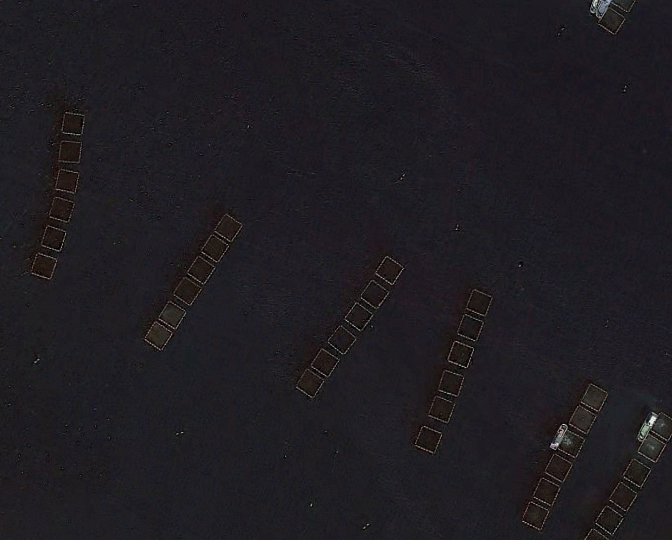ship: (538, 412, 573, 451), (634, 402, 663, 446)
square: (404, 418, 450, 456), (322, 320, 363, 359), (439, 336, 482, 371), (554, 422, 589, 461), (42, 188, 82, 222), (209, 209, 246, 245), (196, 229, 235, 263), (423, 390, 459, 425), (54, 106, 91, 140), (340, 300, 378, 333), (631, 428, 669, 461), (310, 350, 345, 385), (464, 285, 499, 320), (30, 250, 63, 285), (142, 317, 177, 350), (432, 365, 467, 398), (580, 379, 612, 415), (157, 298, 191, 331), (52, 136, 87, 168), (517, 498, 552, 530), (527, 477, 563, 508), (53, 162, 86, 195), (608, 480, 641, 513), (620, 456, 655, 487), (187, 251, 219, 284), (297, 370, 330, 402), (544, 452, 576, 484), (570, 404, 601, 437), (595, 505, 628, 536), (44, 221, 74, 254), (360, 278, 392, 308), (174, 275, 205, 305), (373, 255, 403, 283), (464, 311, 490, 343)
